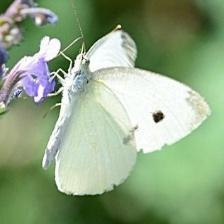butterfly: (42, 25, 212, 197)
